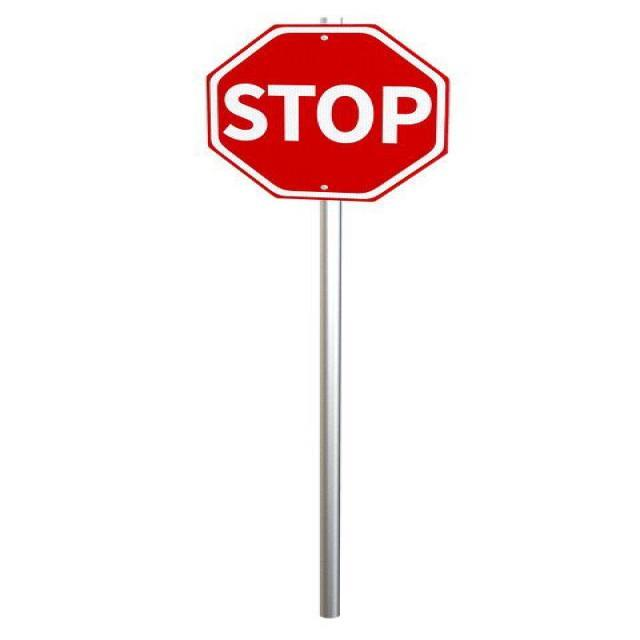stop: (204, 21, 450, 202)
